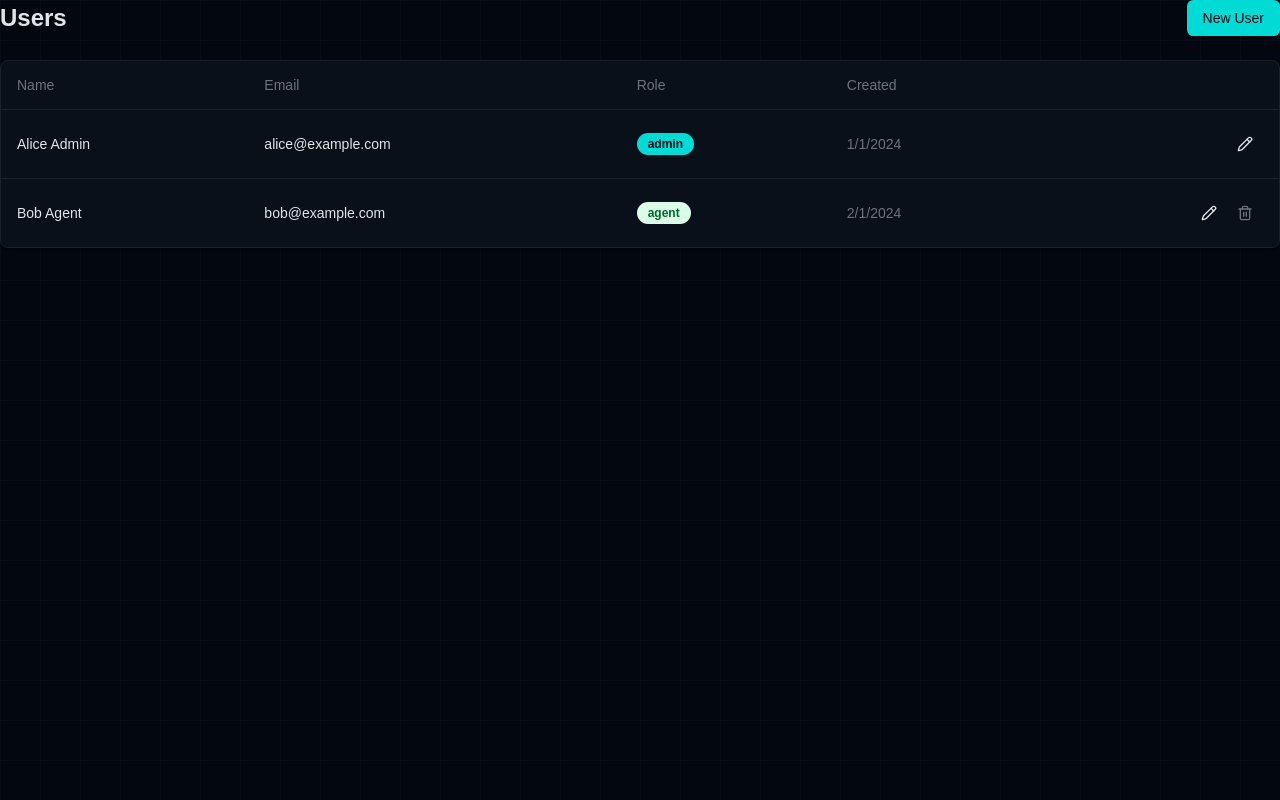
Test: UsersPage › edit user › saves changes and closes the dialog on success
Expected: the text "Alice Admin" is shown, [1, 109, 248, 178]
Click the button named "edit" in the row of "Alice Admin" at x=1245, y=144, box [1227, 126, 1263, 162]
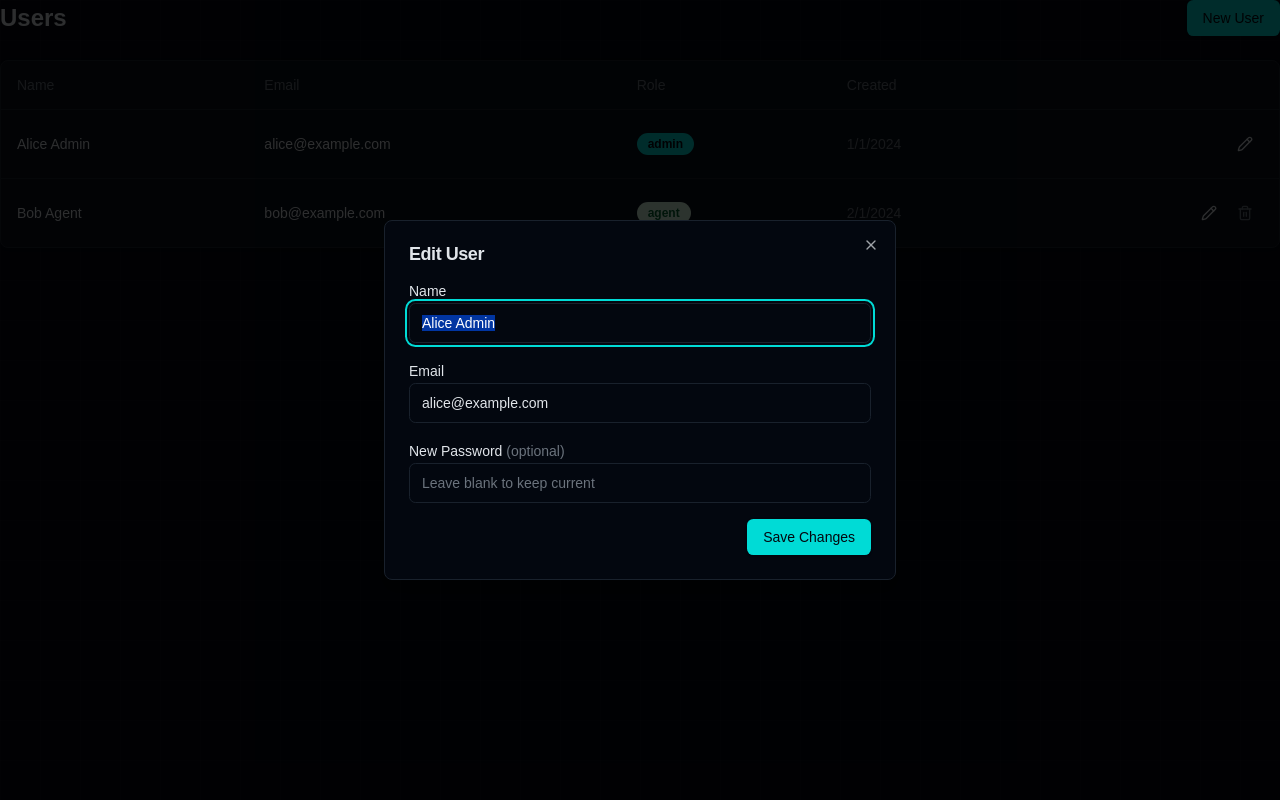
Replace the text in the field labelled "Name" with "Alice Updated" at x=640, y=323, box [409, 303, 871, 343]
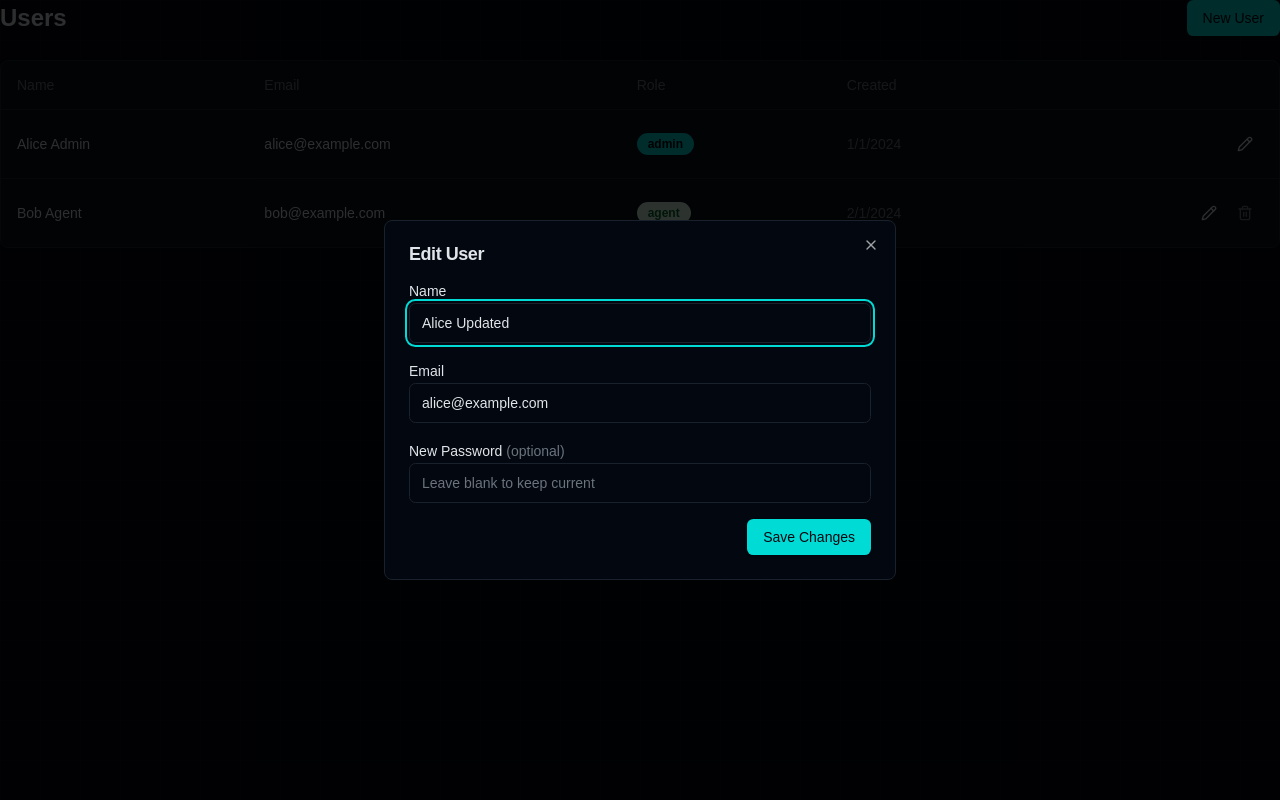
Click the button "Save Changes" at x=809, y=537, box [747, 519, 871, 555]
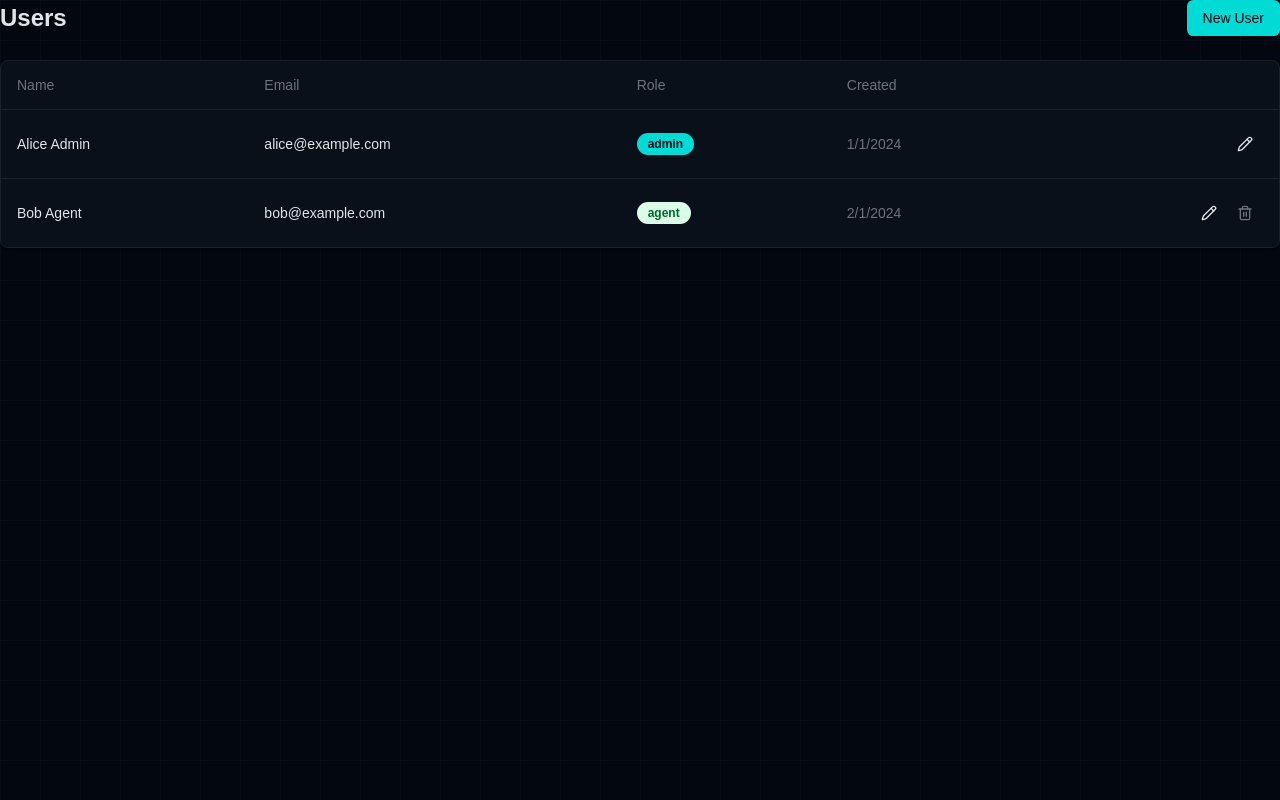
Now the dialog is gone
